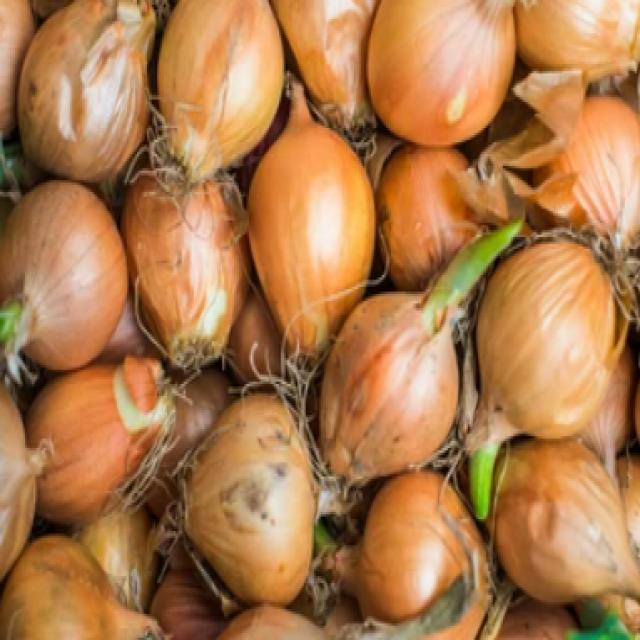rotten: (245, 462, 288, 540)
sprouting: (428, 220, 518, 325), (462, 446, 494, 516), (0, 300, 27, 368)
